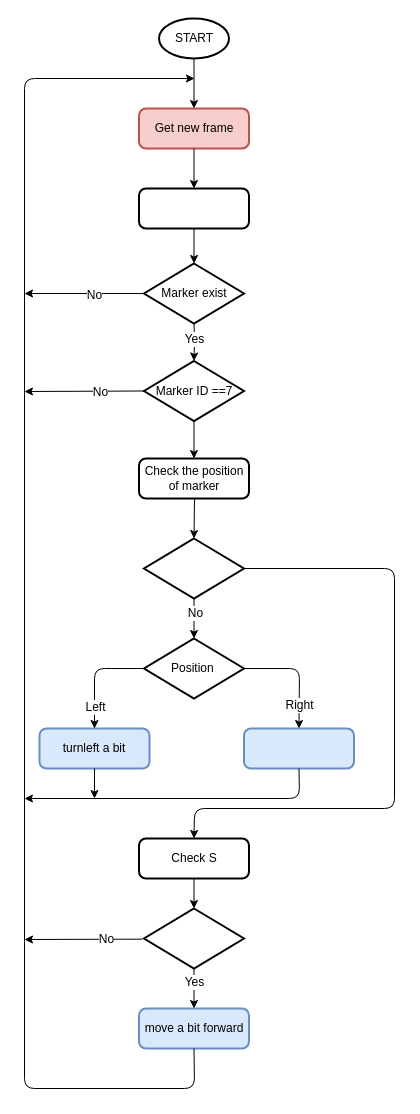
The diagram is 420 pixels wide and 1114 high, and some of its shapes have lost their labels. Each missing label, with the centre of its shape:
"Detect maker in frame" belongs at point (194, 208).
"Position == center" belongs at point (193, 568).
"S <= S_min" belongs at point (193, 938).
"turnright a bit" belongs at point (298, 748).
